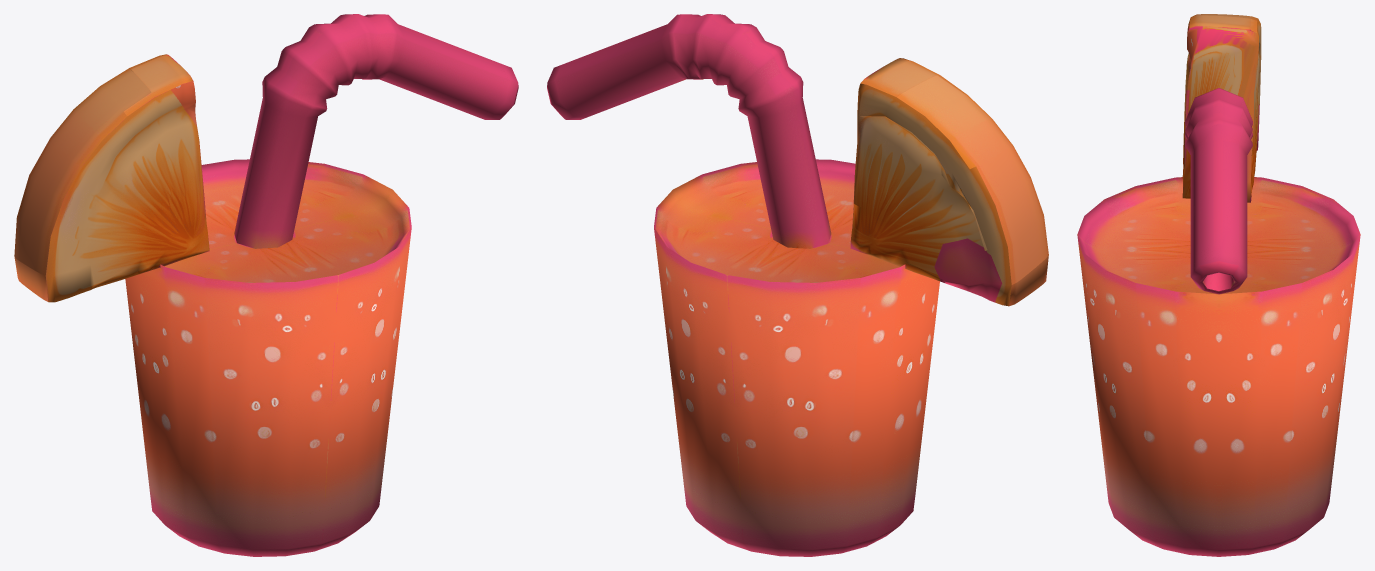
File: Web_Smoothie_Peach.fbx
3 renders of one model, left to right at view 1: azimuth 30°, elevation 25°; view 2: azimuth 150°, elevation 25°; view 3: azimuth 270°, elevation 25°, orthographic. The views are drawn at different scales.
Visible parts, largest first — view 1: 桃子.001; view 2: 桃子.001; view 3: 桃子.001.
Part boxes in pixels (x1=…): 桃子.001: x1=14, y1=14, x2=518, y2=556; 桃子.001: x1=547, y1=14, x2=1048, y2=556; 桃子.001: x1=1077, y1=14, x2=1360, y2=556.
Bounding box in the file's own units: 94.54 × 89.45 × 50.01.
1 material, 1 textured.
